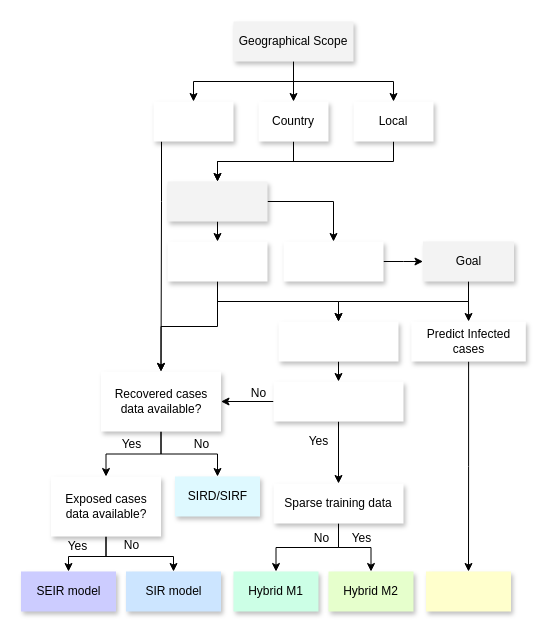
The diagram is 549 pixels wide and 635 high, and some of its shapes have lost their labels. Here are the shapes that lost their labels. From the top down, the centre of each, then its label:
At (x=194, y=122): "Global".
At (x=218, y=202): "Time Range".
At (x=218, y=262): "Long-term +14 days".
At (x=334, y=262): "Short-term 7-14 days".
At (x=339, y=342): "Model intervention scenario".
At (x=339, y=402): "Has this intervention occurred in the past?".
At (x=469, y=592): "LSTM".
